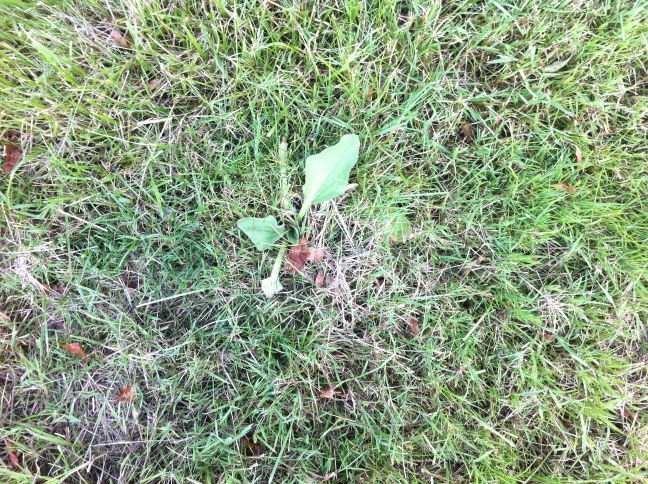weed1: (236, 136, 363, 296)
